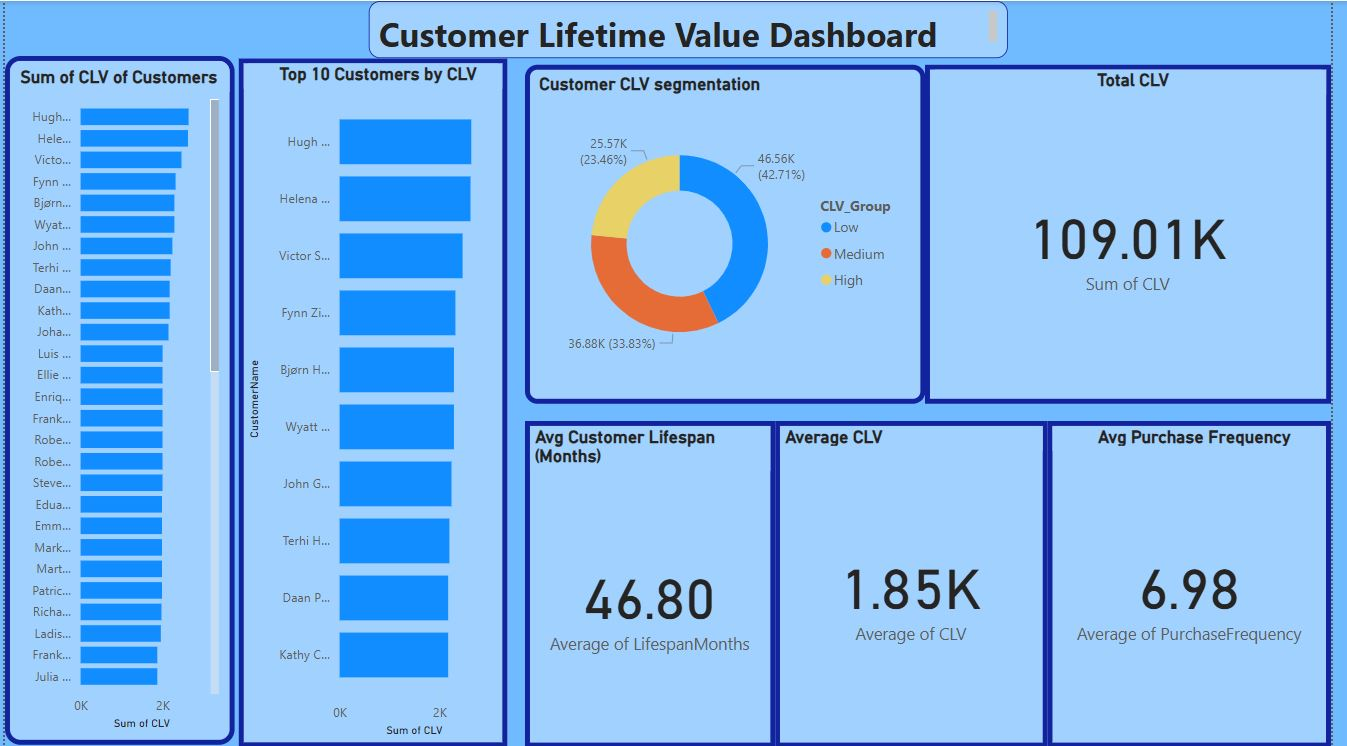

The dashboard page shown, as its layout file describes it:
{"tool":"powerbi","page":{"name":"Page 5","canvas":[1280,720],"ordinal":4},"visuals":[{"type":"clusteredBarChart","title":" Sum of CLV of Customers","fields":{"Y":["Sum(Customer_CLV.CLV)"],"Category":["Customer_CLV.CustomerName"]},"box":[0,375.6,222.2,321.1],"z":0},{"type":"textbox","box":[351.1,0,616.7,47.8],"z":1000},{"type":"card","title":"Total CLV","fields":{"Values":["Sum(Customer_CLV.CLV)"]},"box":[0,55.6,222.2,280],"z":2000},{"type":"card","title":"Total Customers","fields":{"Values":["Count(Customer_CLV.CustomerId)"]},"box":[236.7,55.6,230,280],"z":3000},{"type":"card","title":"Avg Purchase Frequency","fields":{"Values":["Avg(Customer_CLV.PurchaseFrequency)"]},"box":[722.2,55.6,206.7,280],"z":4000},{"type":"card","title":" Average CLV","fields":{"Values":["Avg(Customer_CLV.CLV)"]},"box":[484.4,55.6,220,280],"z":5000},{"type":"card","title":"Avg Customer Lifespan (Months)","fields":{"Values":["Avg(Customer_CLV.LifespanMonths)"]},"box":[944.4,55.6,223.3,280],"z":6000},{"type":"clusteredBarChart","title":"Top 10 Customers by CLV","fields":{"Y":["Sum(top_10_clv_customers.CLV)"],"Category":["top_10_clv_customers.CustomerName"]},"box":[246.7,376.7,258.9,321.1],"z":7000},{"type":"card","title":"Life span by months of customers","fields":{"Values":["Sum(top_10_clv_customers.LifespanMonths)"]},"box":[535.6,376.7,297.8,131.1],"z":8000},{"type":"textbox","box":[535.6,515.6,632.2,181.1],"z":9000},{"type":"donutChart","title":" Customer CLV segmentation","fields":{"Category":["customers_with_clv_group.CLV_Group"],"Y":["Sum(customers_with_clv_group.CLV)"]},"box":[852.2,375.6,315.6,132.2],"z":10000}]}

Visuals, with their boxes in screenshot pixels (x1, y1, x2, y2), scaled from the page's 1280x720 canvas onto the 1347x746 screenshot:
" Sum of CLV of Customers" clusteredBarChart: <box>0,389,234,722</box>
textbox: <box>369,0,1018,50</box>
"Total CLV" card: <box>0,58,234,348</box>
"Total Customers" card: <box>249,58,491,348</box>
"Avg Purchase Frequency" card: <box>760,58,978,348</box>
" Average CLV" card: <box>510,58,741,348</box>
"Avg Customer Lifespan (Months)" card: <box>994,58,1229,348</box>
"Top 10 Customers by CLV" clusteredBarChart: <box>260,390,532,723</box>
"Life span by months of customers" card: <box>564,390,877,526</box>
textbox: <box>564,534,1229,722</box>
" Customer CLV segmentation" donutChart: <box>897,389,1229,526</box>
